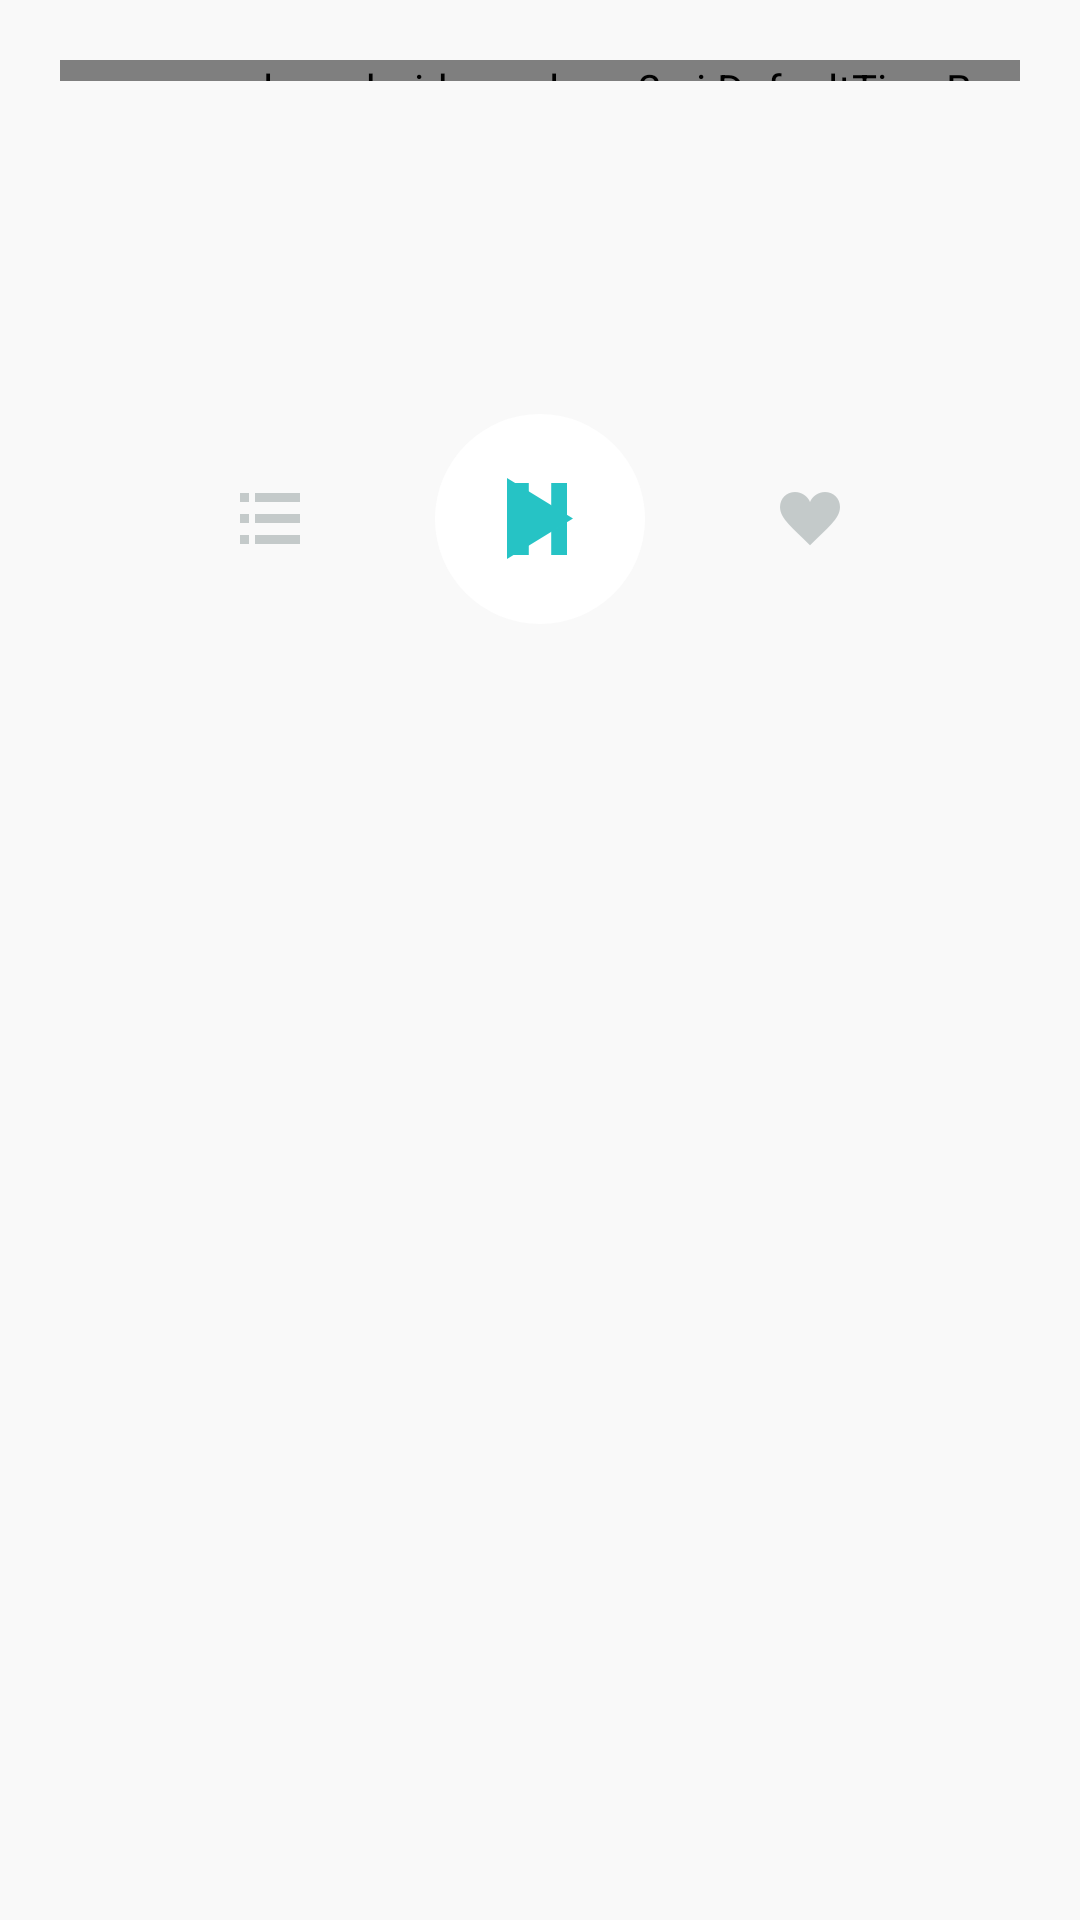

Icons on this 1080*1920 Android screen, each with its box as (left=x1, top=y1, right=x2, bottom=y2):
shape heart: (left=780, top=492, right=840, bottom=545)
